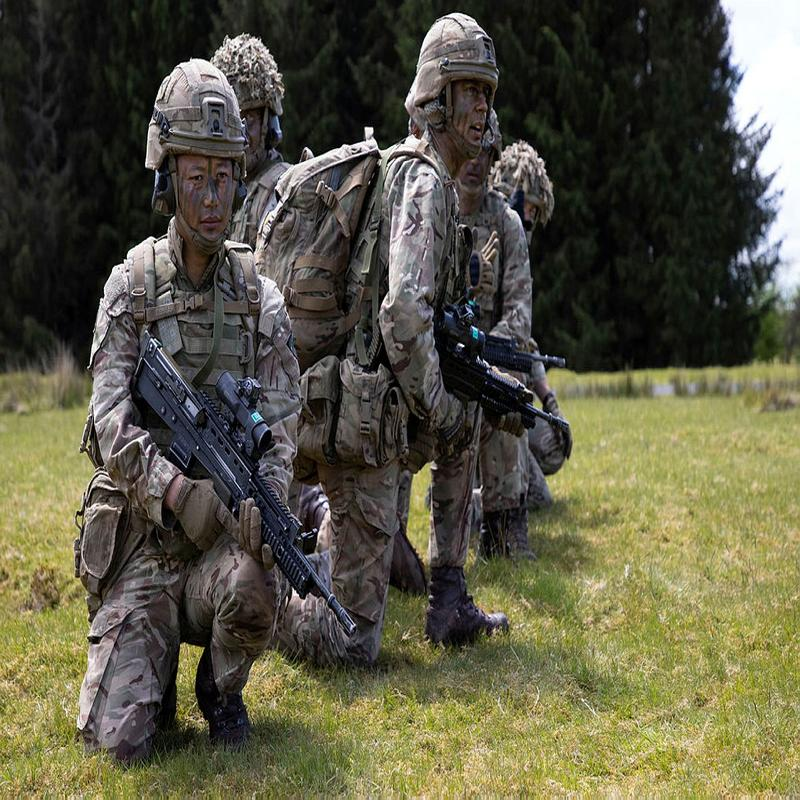GUN: (108, 314, 369, 658)
